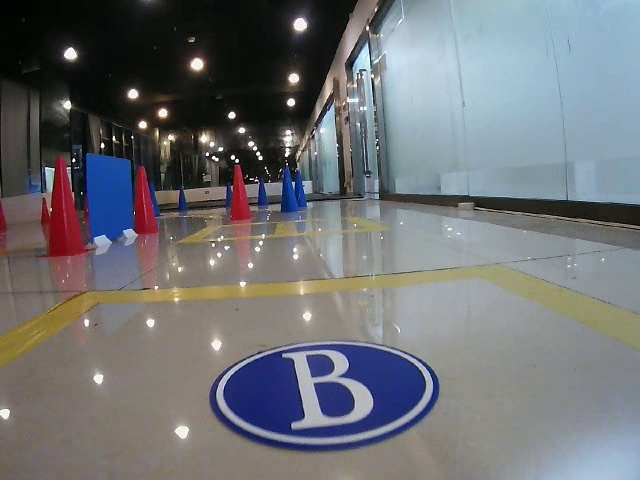B: (212, 341, 439, 446)
